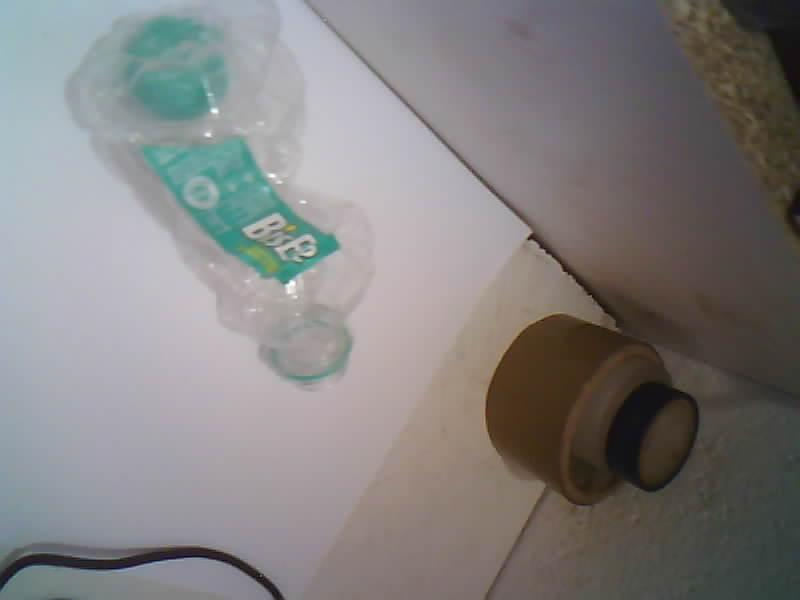non-biodegradable: (67, 0, 370, 385)
